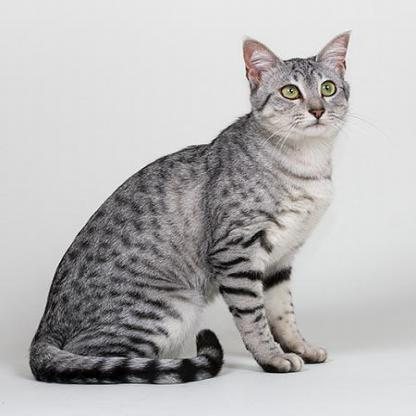cat: (27, 31, 352, 386)
